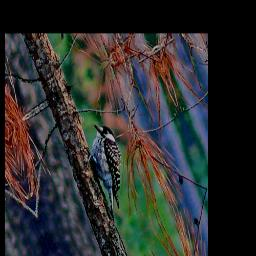Woodpecker: (69, 108, 146, 231)
